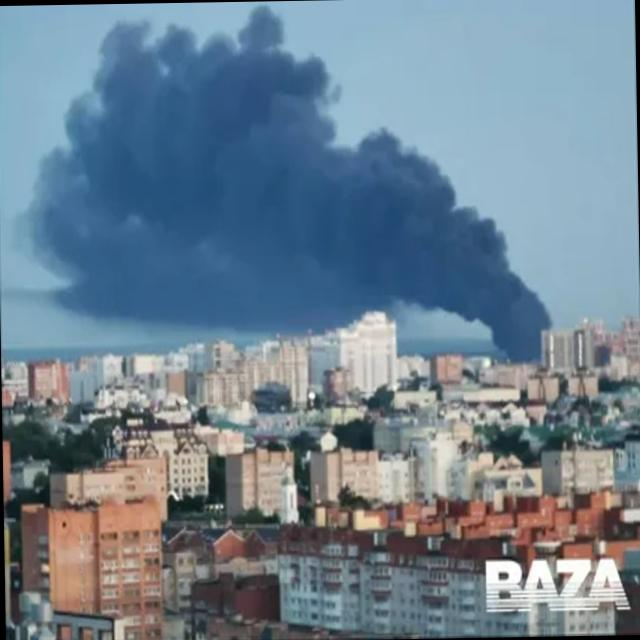Smoke: (10, 0, 553, 372)
